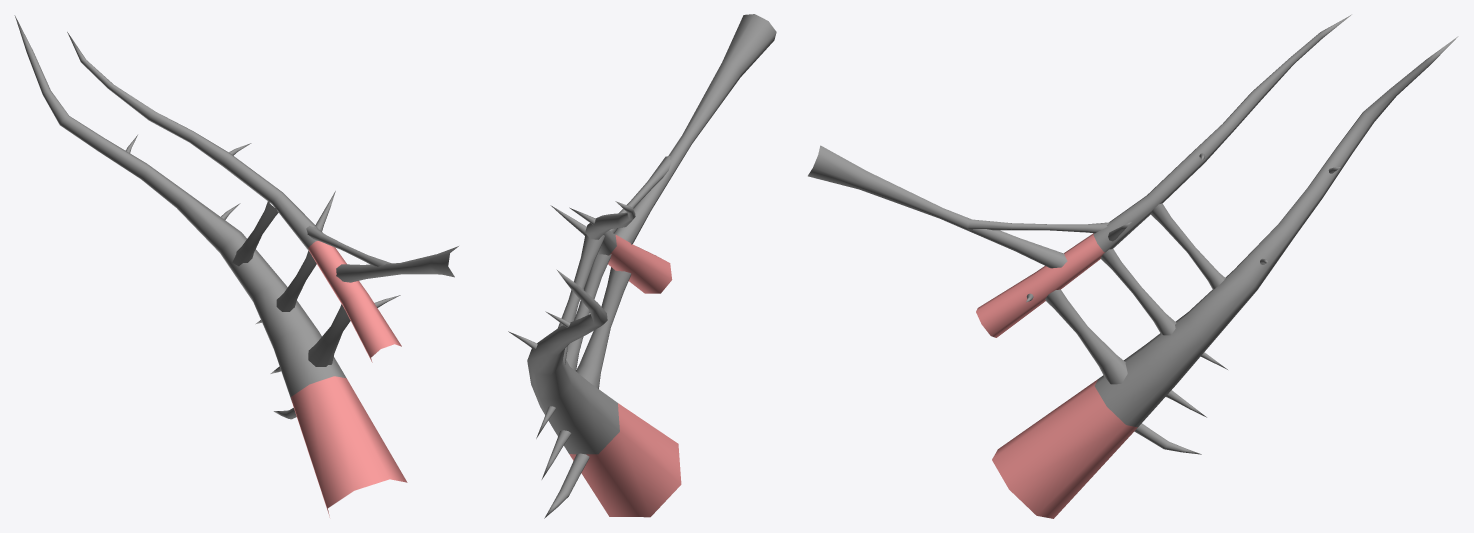
3 views of the same model, side by side, from view 1: azimuth 30°, elevation 25°; view 2: azimuth 150°, elevation 25°; view 3: azimuth 270°, elevation 25° (orthographic). The views are drawn at different scales.
Parts seen in each view (by area): view 1: base_01; view 2: base_01; view 3: base_01.
Part boxes in pixels (bbox=[...]): base_01: bbox=[14, 15, 458, 517]; base_01: bbox=[508, 14, 776, 518]; base_01: bbox=[808, 14, 1458, 518].
Size of the model in its own units: 11.08 by 24.14 by 33.32.
